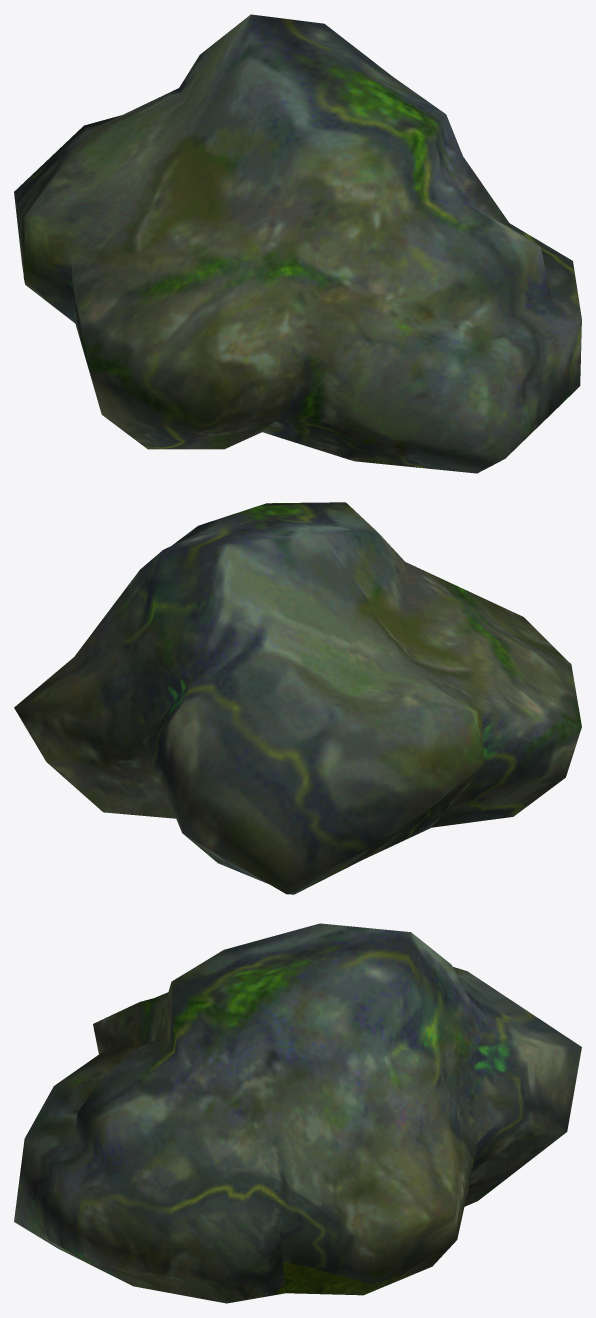
The model's file is 10204_stone02.FBX.
3 views of the same model, one above another, from view 1: azimuth 30°, elevation 25°; view 2: azimuth 150°, elevation 25°; view 3: azimuth 270°, elevation 25° (orthographic). The views are drawn at different scales.
Parts seen in each view (by area): view 1: 10204_stone02; view 2: 10204_stone02; view 3: 10204_stone02.
Boxes of the visible parts, x1,y1,x2,y2 form: 10204_stone02: (14,14,581,473); 10204_stone02: (14,502,581,894); 10204_stone02: (14,923,581,1303).
Size of the model in its own units: 139 by 90.22 by 154.
